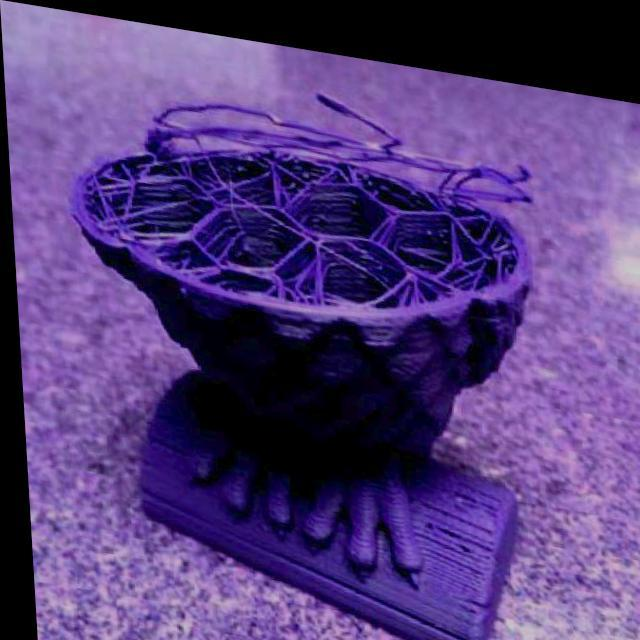spaghetti: (139, 53, 538, 218)
